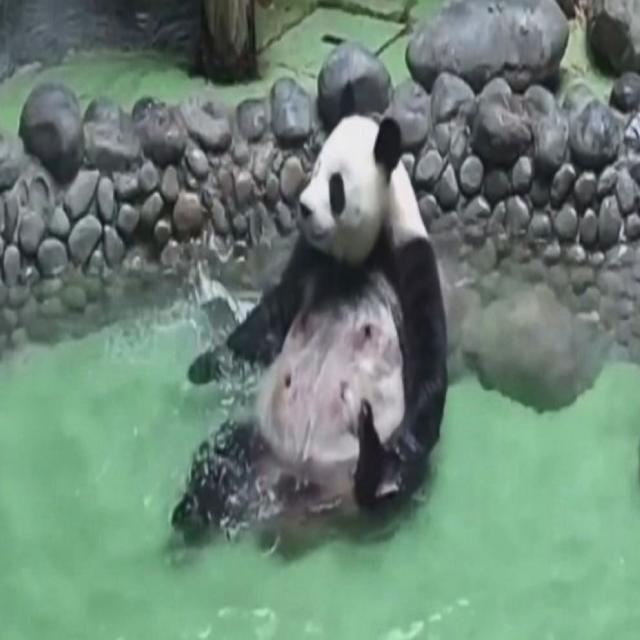panda: (172, 115, 447, 536)
